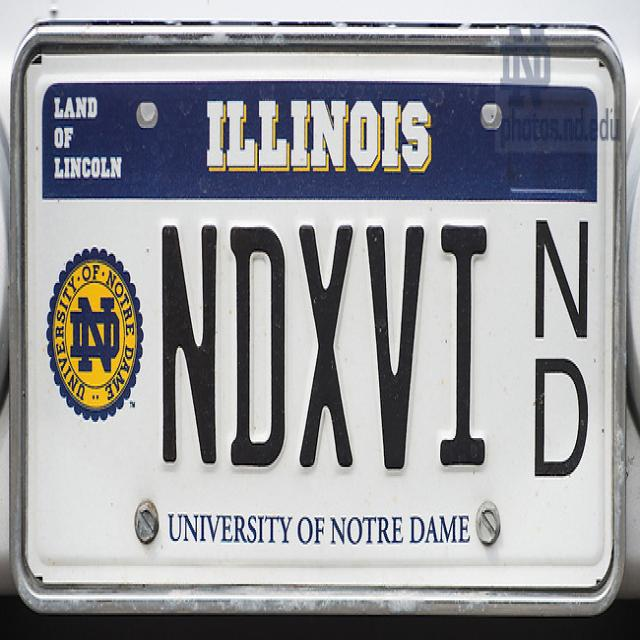placa: (152, 213, 509, 482)
